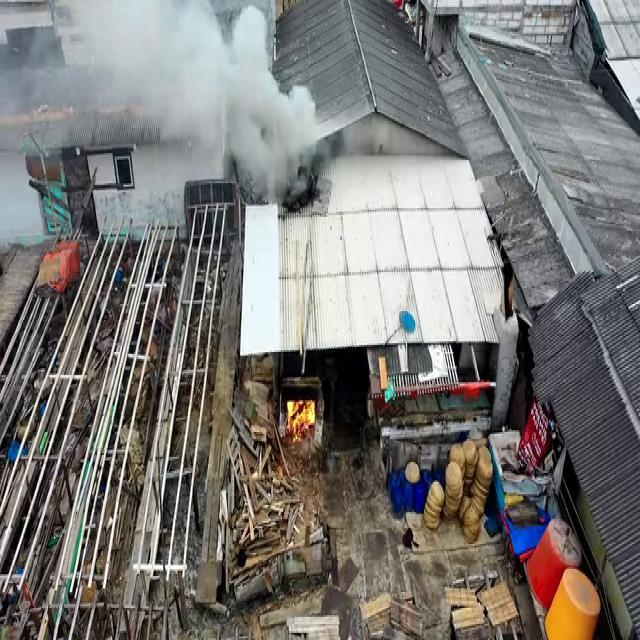smoke: (225, 74, 323, 207), (134, 5, 222, 94), (105, 45, 175, 139), (163, 76, 230, 160), (56, 0, 140, 64), (217, 6, 270, 104)
